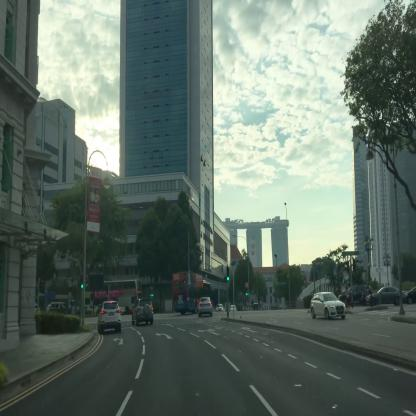green_traffic_light: (226, 266, 229, 281), (81, 274, 83, 288)
